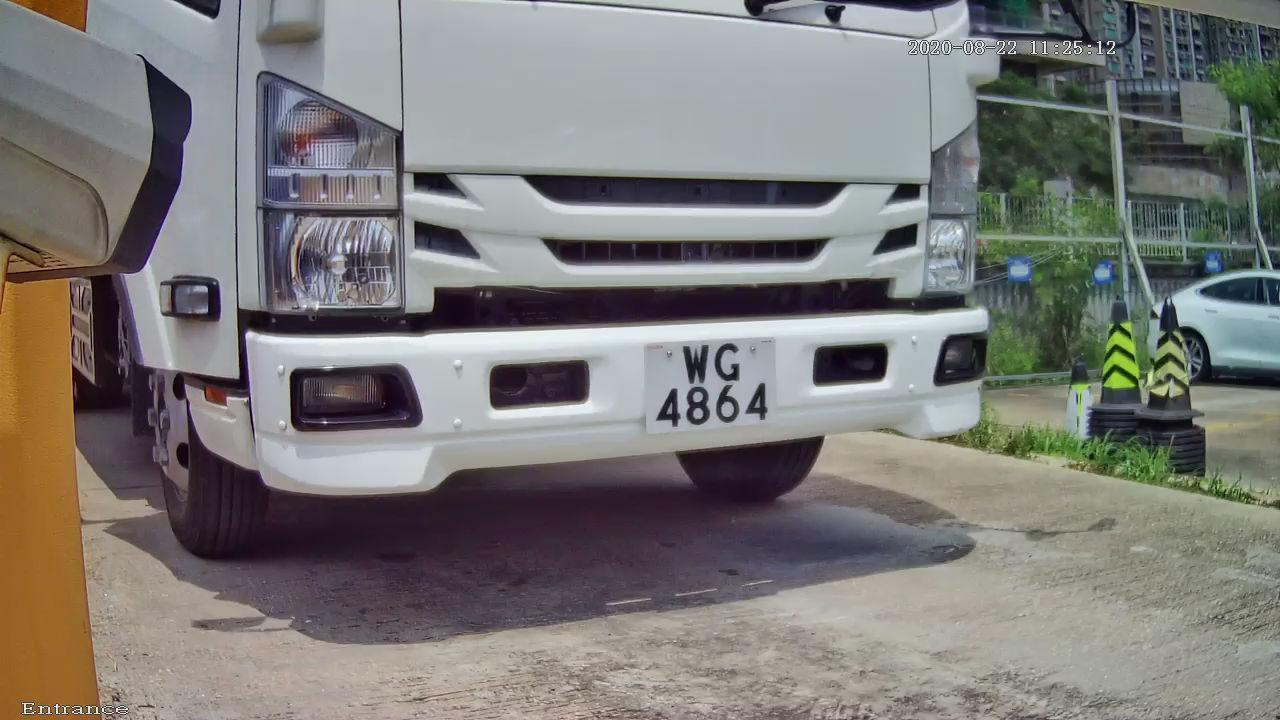License Plate: (596, 319, 825, 457)
